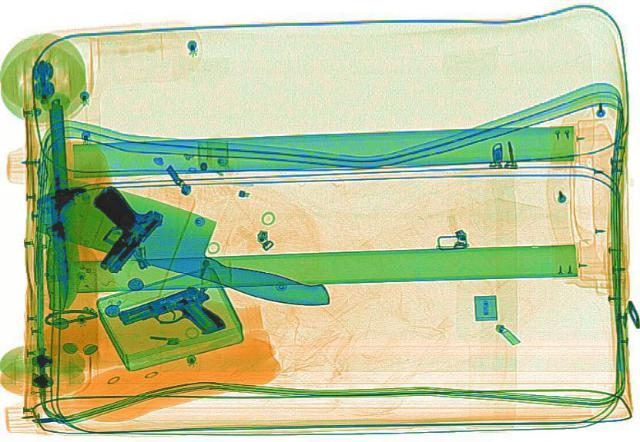Gun: (50, 183, 172, 273), (111, 281, 232, 350)
Knife: (17, 170, 359, 314), (38, 97, 78, 302)
